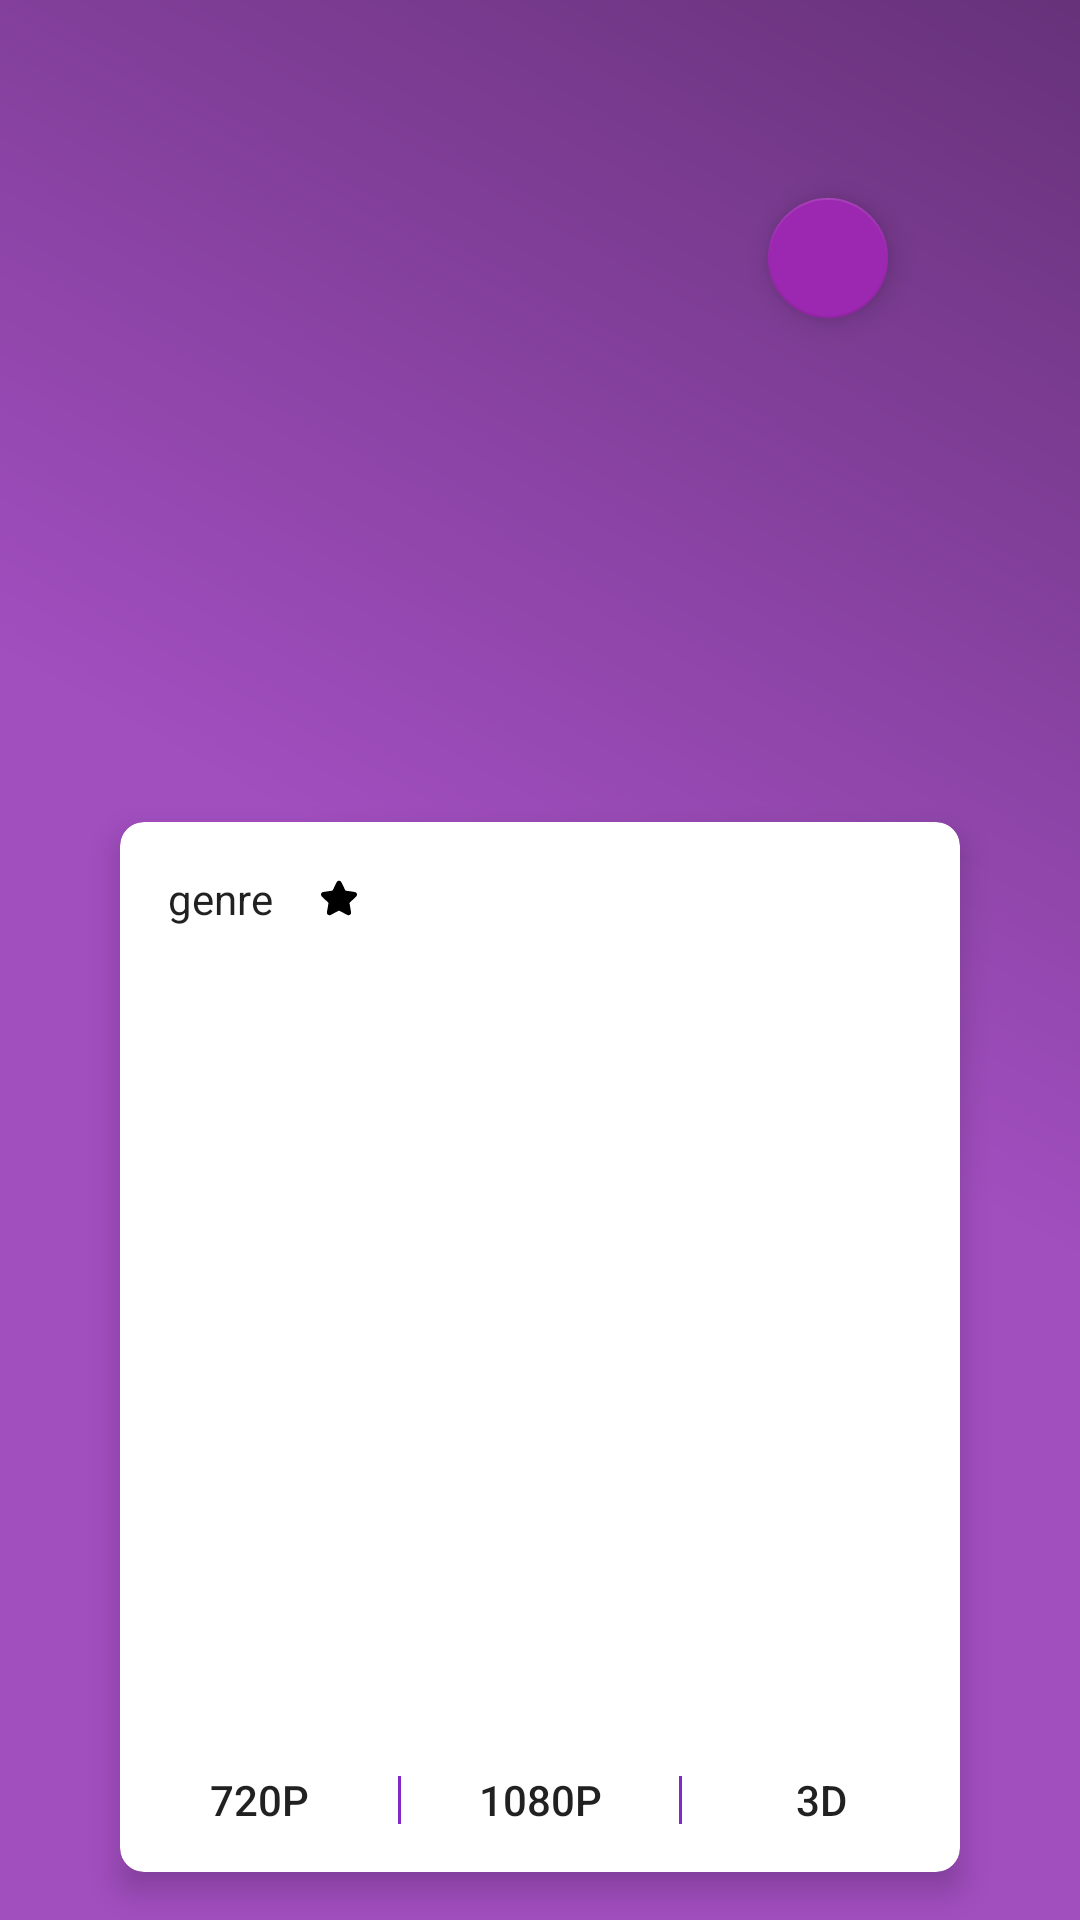

Screen size 1080px×1920px. Icon name, then its box in pixels as (x1, y1, x2, y2):
star: (321, 880, 357, 916)
